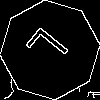L: (25, 25, 78, 75)
